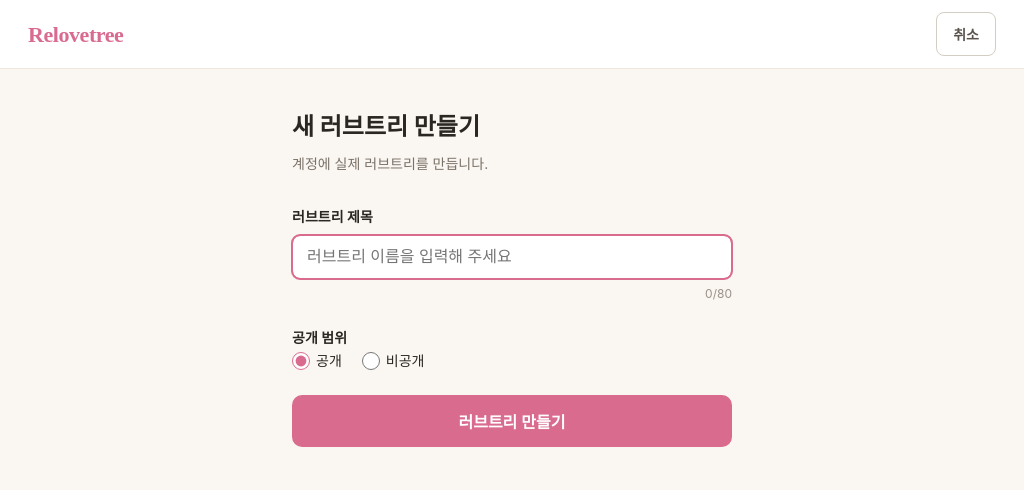
it: CreateTreePage — /tree/new › blocks empty title client-side
The width and height of the screenshot is (1024, 490).
Click the button "러브트리 만들기" at (512, 421), box [292,395,732,447]
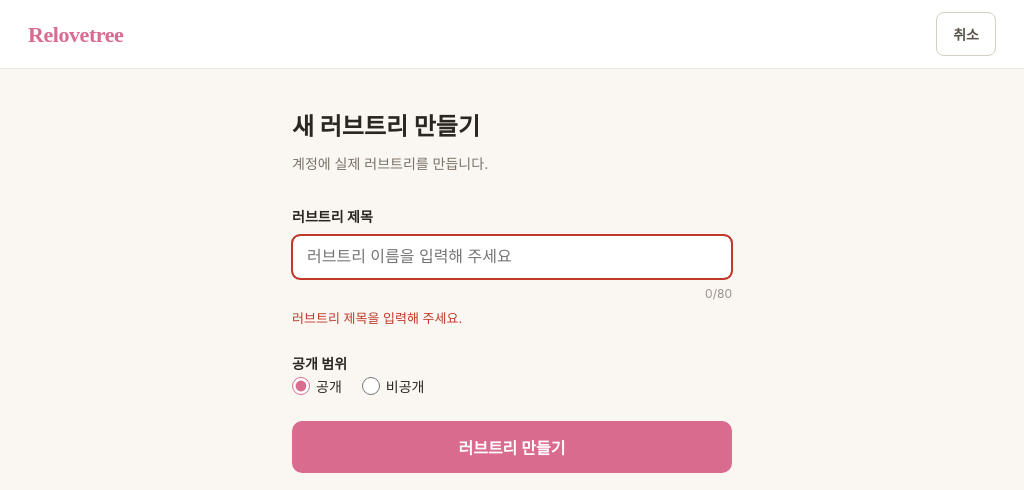
Now the text "러브트리 제목을 입력해 주세요." is shown, box [292,310,462,326]
